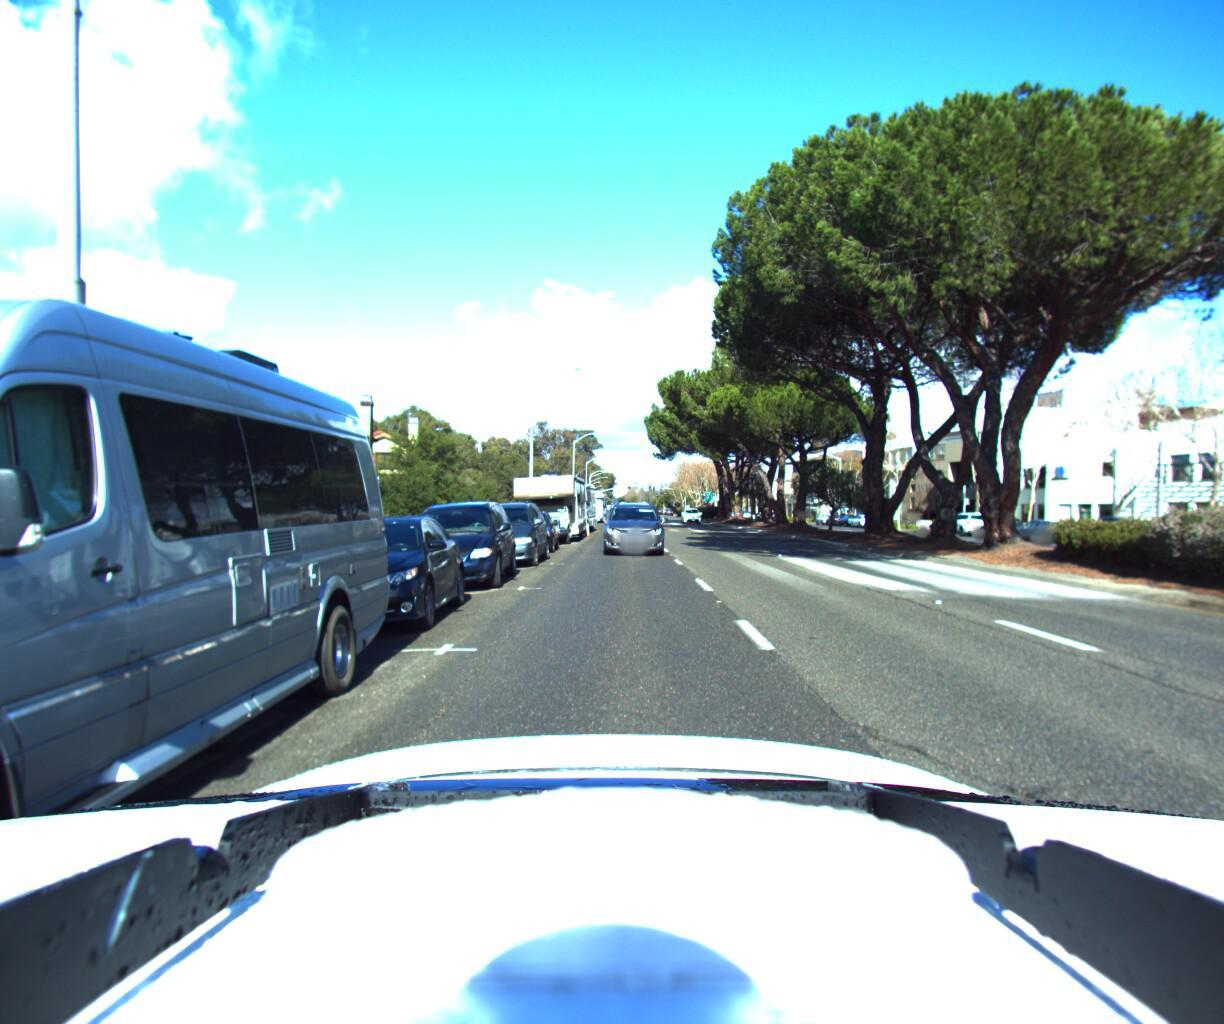car: (0, 0, 392, 1024), (251, 517, 468, 645), (387, 497, 522, 596), (452, 497, 551, 573), (602, 495, 659, 557), (498, 510, 559, 555), (1004, 517, 1073, 545), (937, 510, 993, 537), (679, 505, 702, 521)
other_vehicle: (504, 464, 589, 544), (530, 477, 597, 536), (573, 488, 602, 524)
